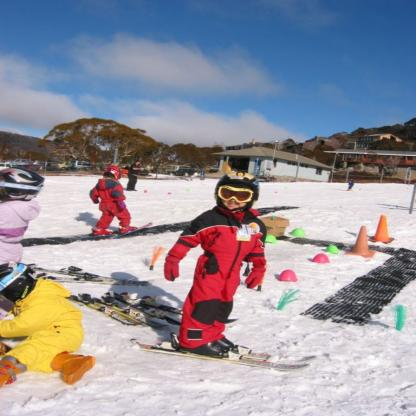Helmet: (211, 176, 262, 215), (0, 167, 46, 202), (103, 165, 121, 180)
